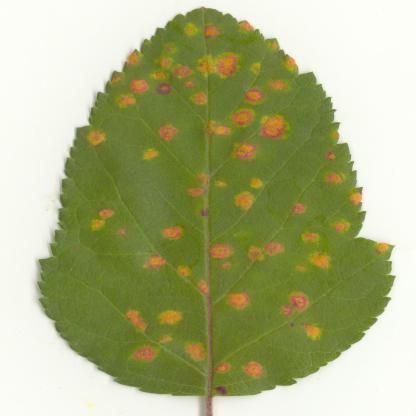Apple rust leaf: (4, 2, 402, 403)
